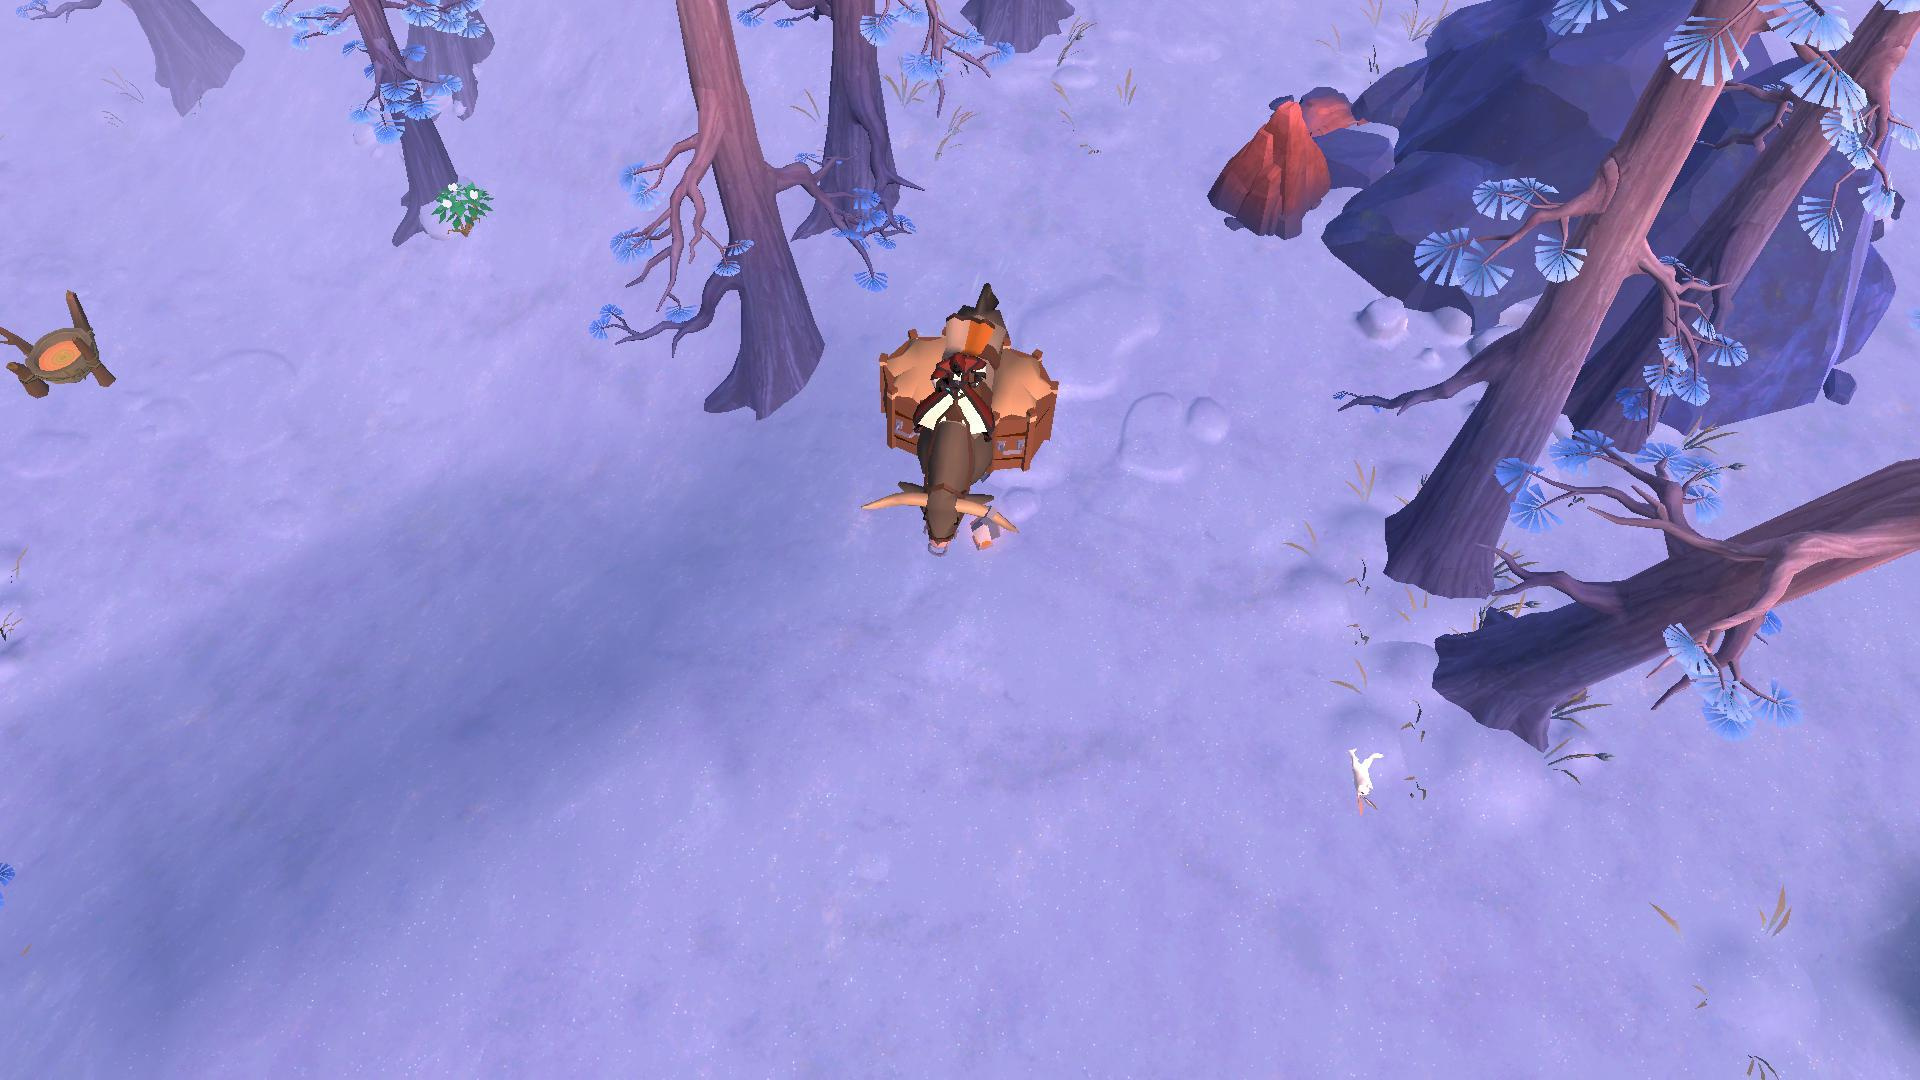fiber_t3: (431, 178, 497, 237)
rock_t5: (1196, 94, 1327, 248)
